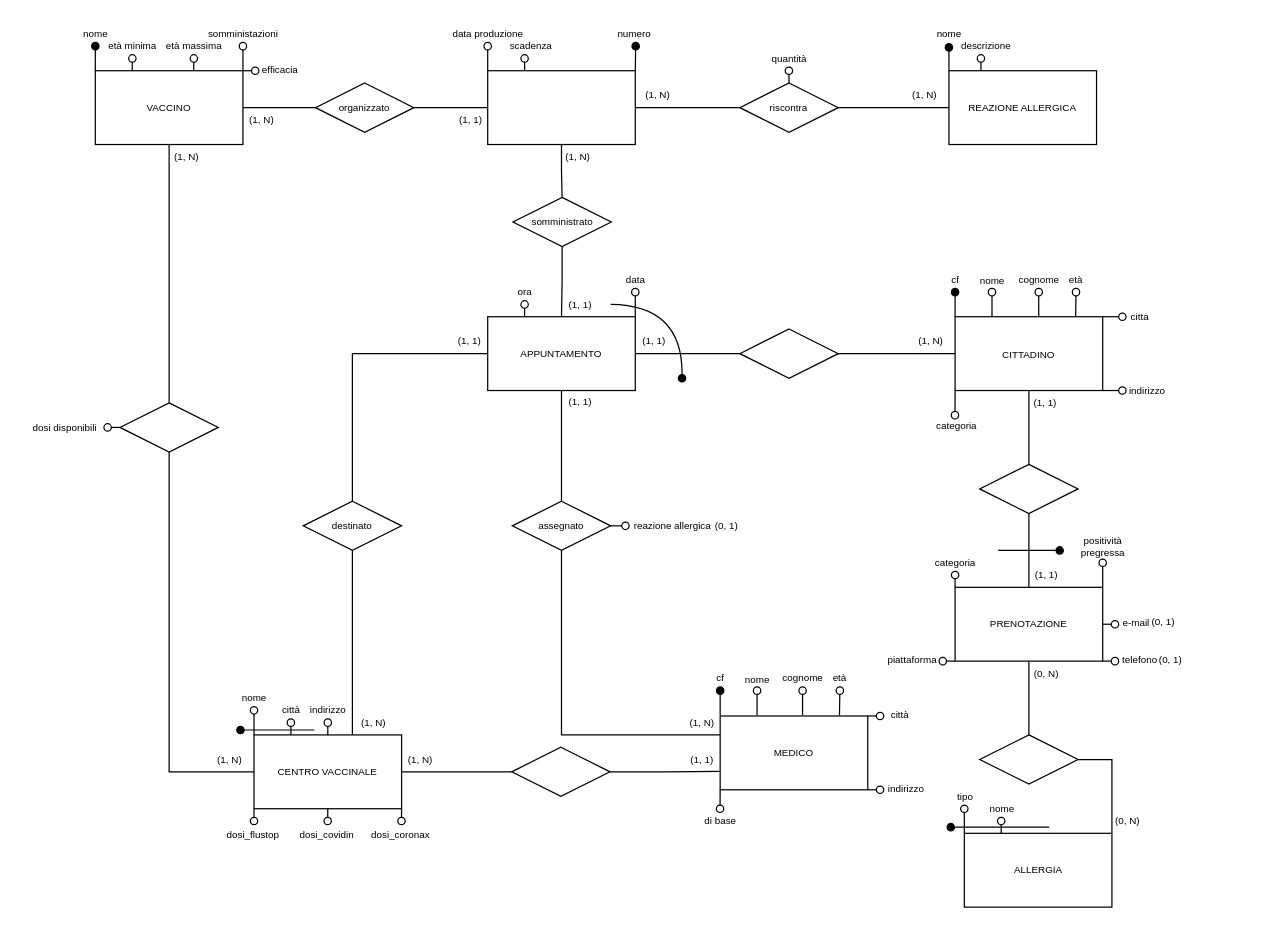
The diagram is 1283 pixels wide and 929 high, and some of its shapes have lost their labels. The centre of each missing label's shape, as x and y in pixels:
afferiscono: (x=560, y=771)
dispone: (x=168, y=427)
indicate: (x=1028, y=759)
LOTTO: (x=560, y=107)
richiede: (x=1028, y=488)
riferito: (x=788, y=353)
